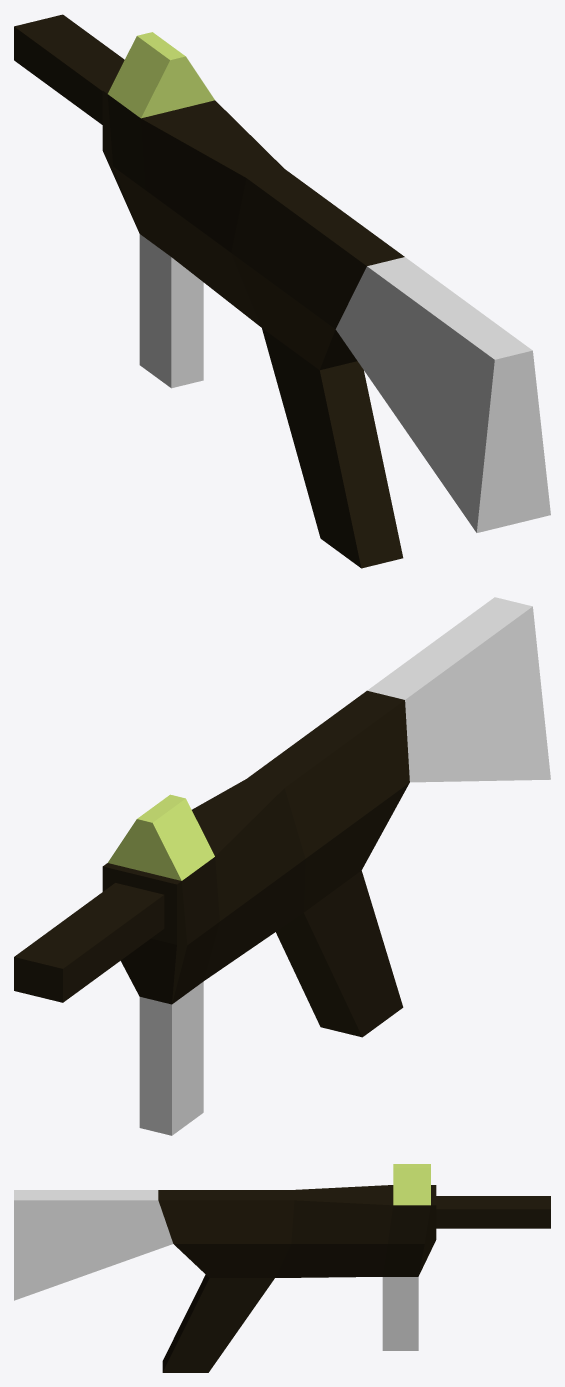
Rendered from Assault rifle.fbx.
The picture shows the model from 3 angles, top to bottom: view 1: azimuth 30°, elevation 25°; view 2: azimuth 150°, elevation 25°; view 3: azimuth 270°, elevation 25°; orthographic projection. The views are drawn at different scales.
Visible parts, largest first — view 1: Cube; view 2: Cube; view 3: Cube.
Boxes of the visible parts, x1,y1,x2,y2 form: Cube: (14,14,550,568); Cube: (14,597,550,1135); Cube: (14,1164,550,1372).
Size of the model in its own units: 15.58 by 71.25 by 173.
